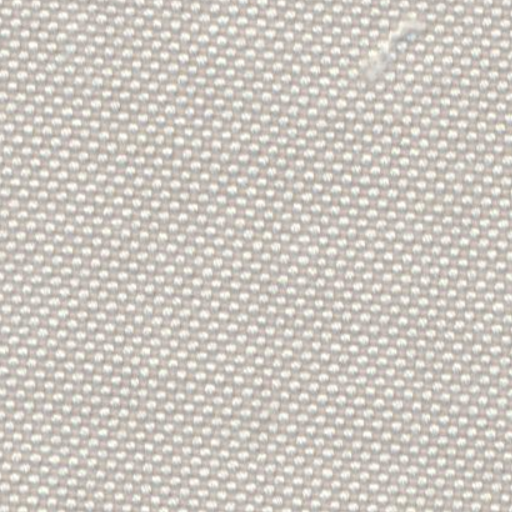DuanSha: (357, 15, 440, 75)
